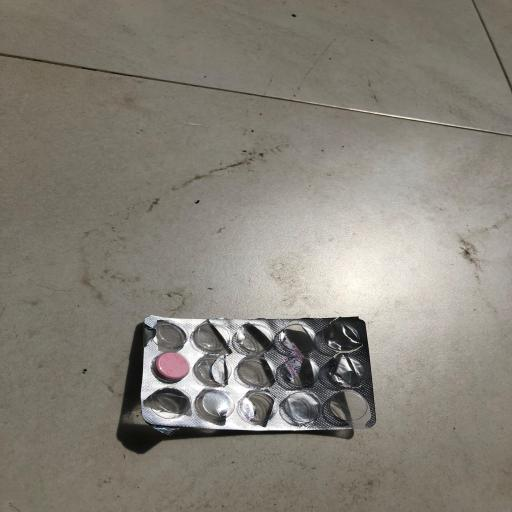waste: (126, 308, 406, 440)
